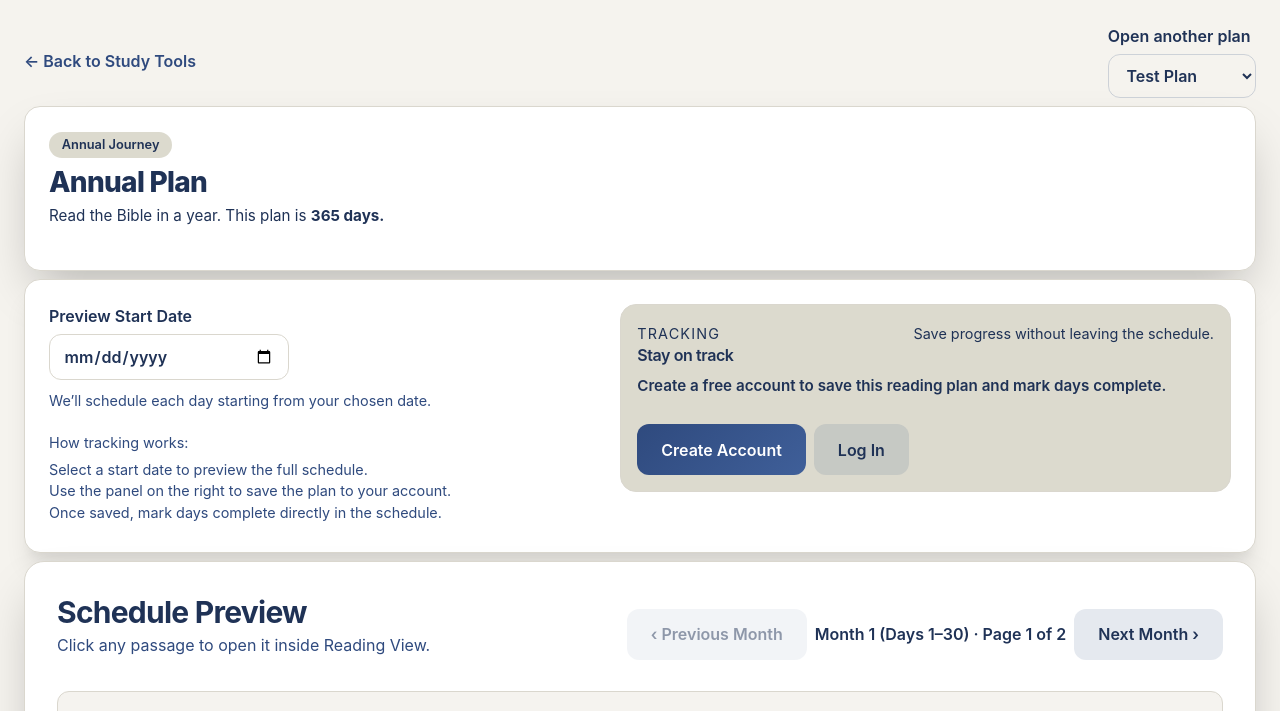
Scenario: ReadingPlanView.vue › Pagination › navigates to next and previous pages
# Go to next page
Click the button "Next Month ›" at (1149, 634), box top-left (1074, 609), bottom-right (1223, 660)
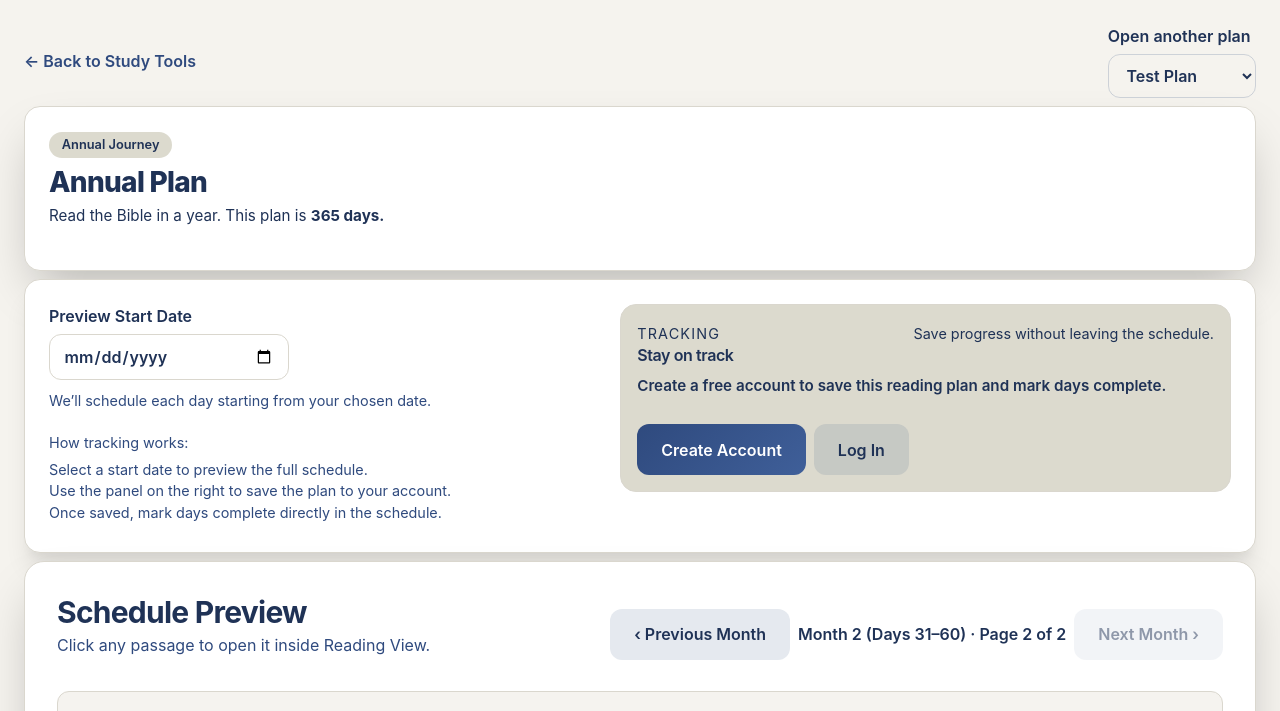
Expected: the element that starts with "‹ Previous Month" shows "Page 2 of 2", top-left (798, 624), bottom-right (1066, 644)
# Go back to previous
Click the button "‹ Previous Month" at (700, 634), box top-left (610, 609), bottom-right (790, 660)
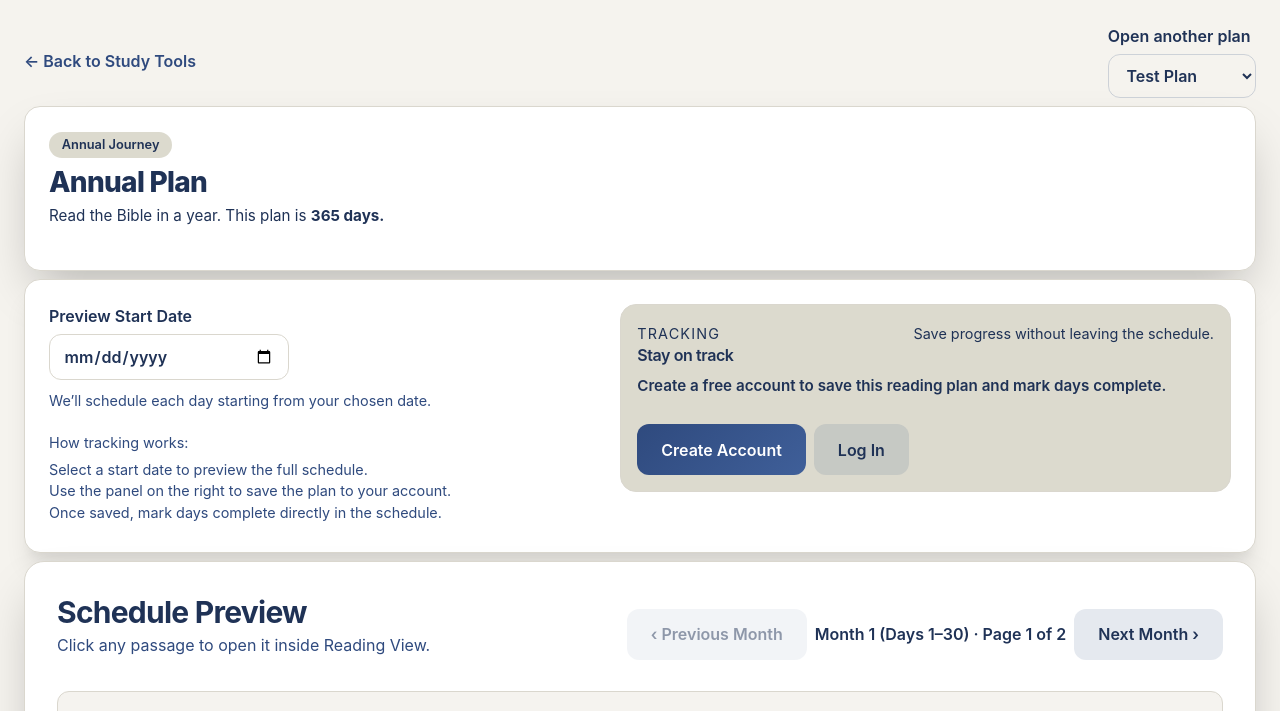
Expected: the element that starts with "‹ Previous Month" shows "Page 1 of 2", top-left (815, 624), bottom-right (1066, 644)
